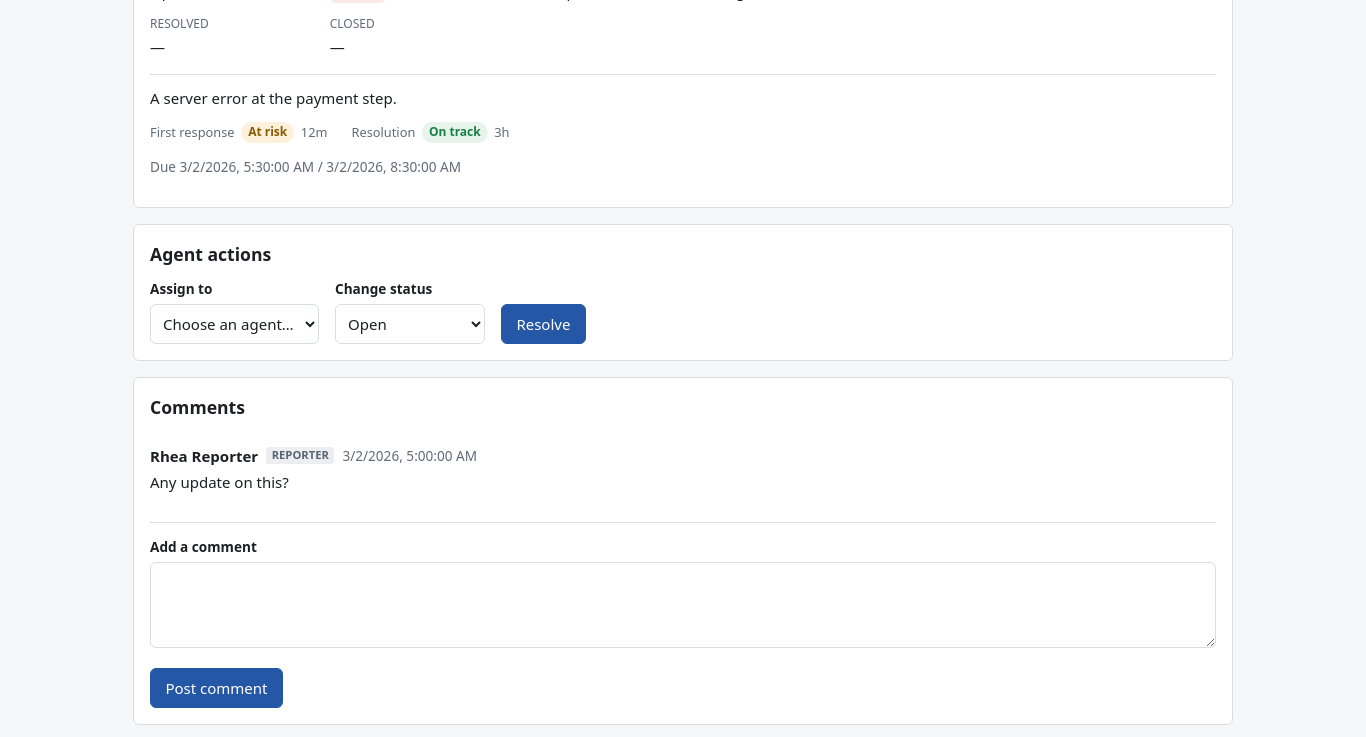
commenting › posts a comment and confirms it
The width and height of the screenshot is (1366, 737).
(page scrolled)
Expected: the heading "Agent actions" is shown, [150,242,271,266]
In the text box labelled "Add a comment": (683, 605) [150,562,1216,648], type "Looking into it now."
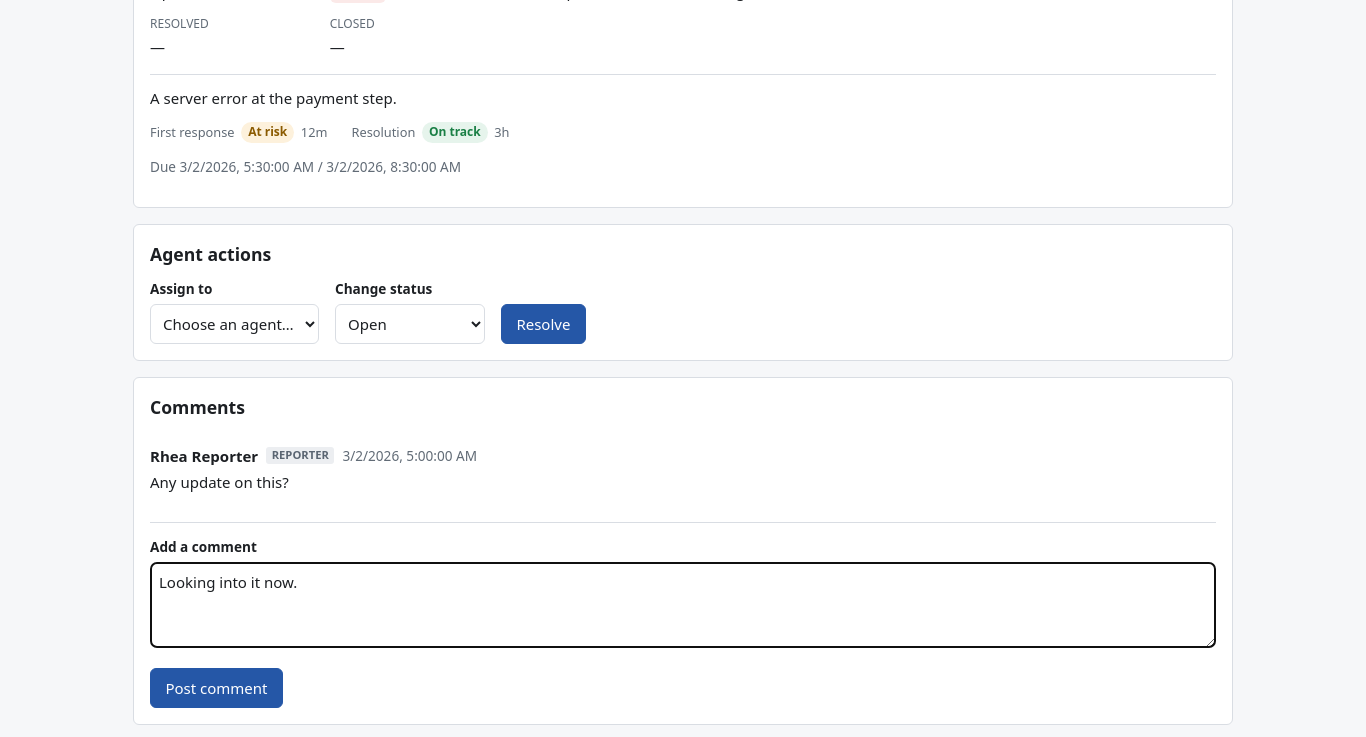
Click the button "Post comment": (216, 688) [150,668,283,708]
(page scrolled)
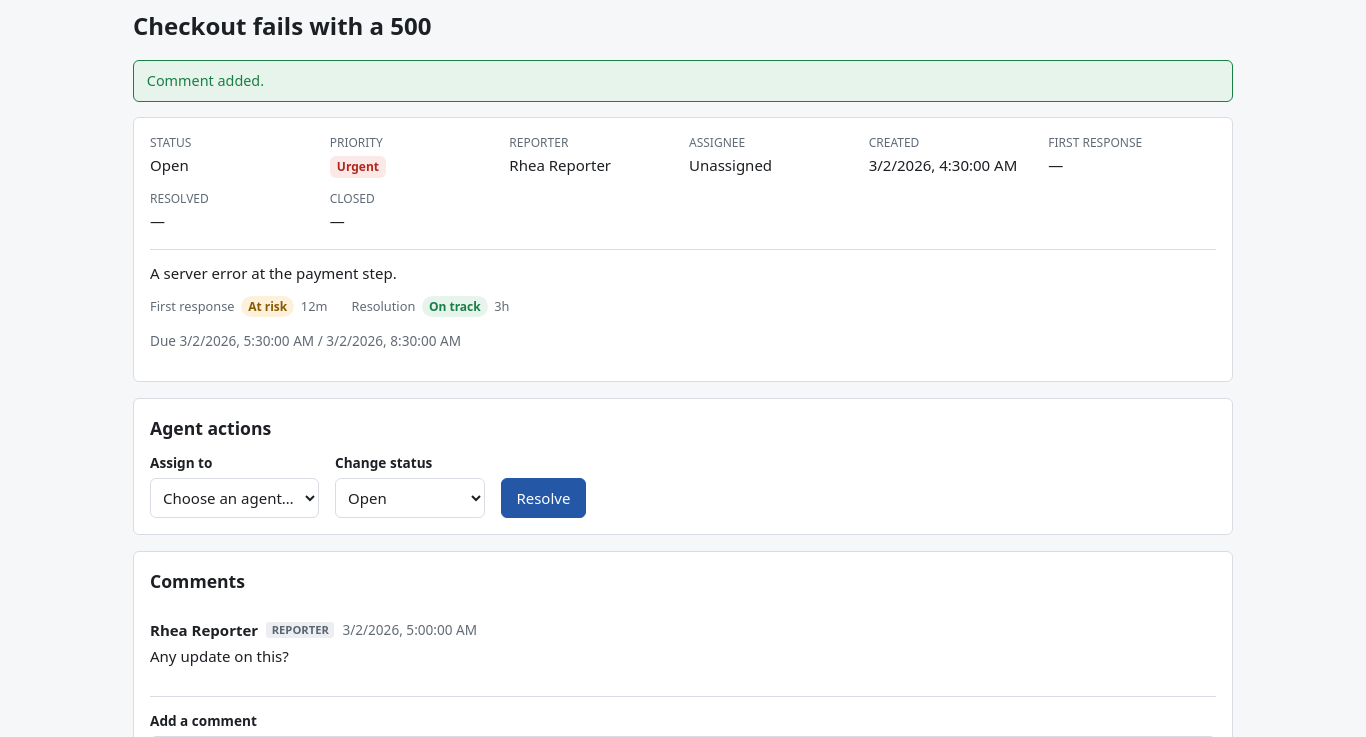
Result: the message reads "Comment added." at [147,71,264,90]
